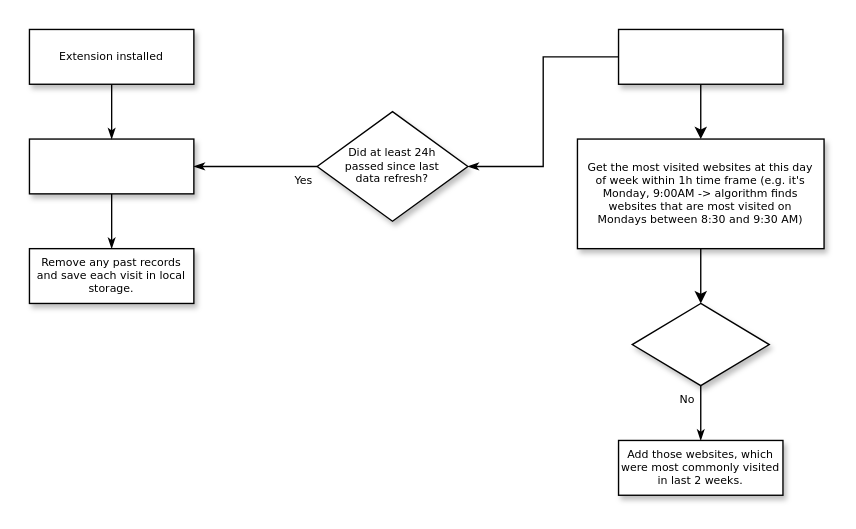
Image size: 856x529. Some labels were removed from this diagram. Each missing label, with the centre of its shape:
Are there at least 9 websites?: the point at 701,346
Fetch all website visits from last 2 weeks.: the point at 112,167
New tab opened: the point at 701,58
